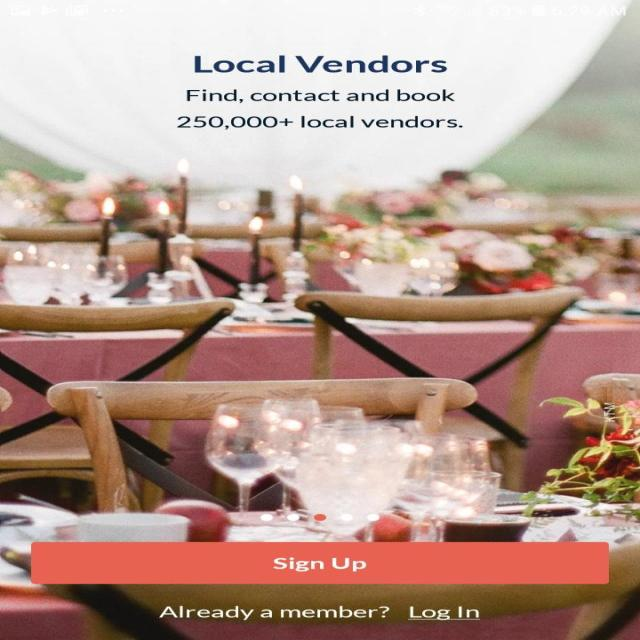BackgroundImage: (0, 18, 639, 640)
Text: (194, 55, 447, 73), (176, 116, 463, 130), (185, 89, 456, 103), (158, 605, 390, 620), (406, 605, 480, 620)
TextButton: (30, 541, 609, 584)
